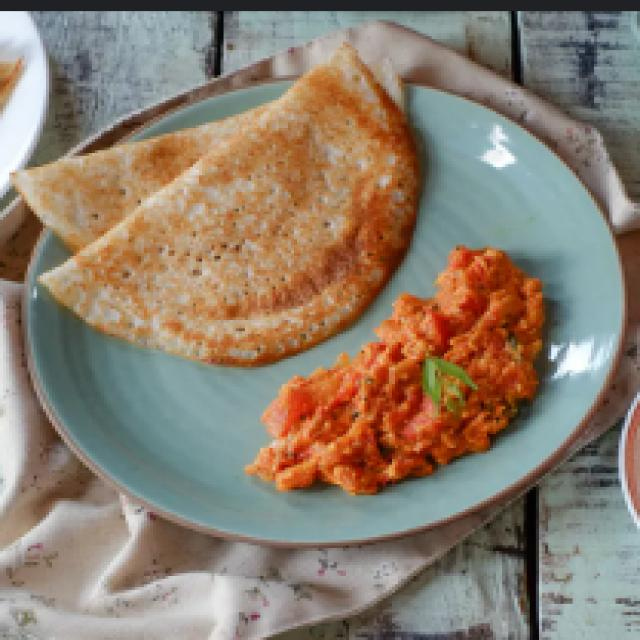tomato chutney: (235, 279, 563, 488)
